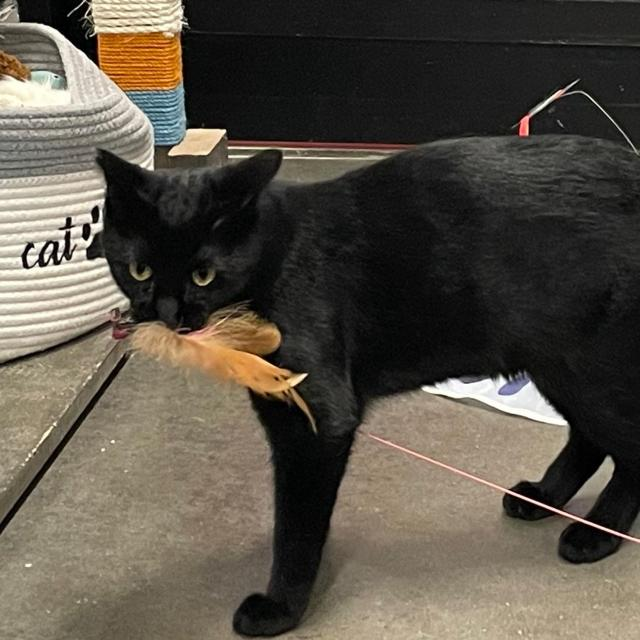bombay_cat: (82, 129, 308, 355)
